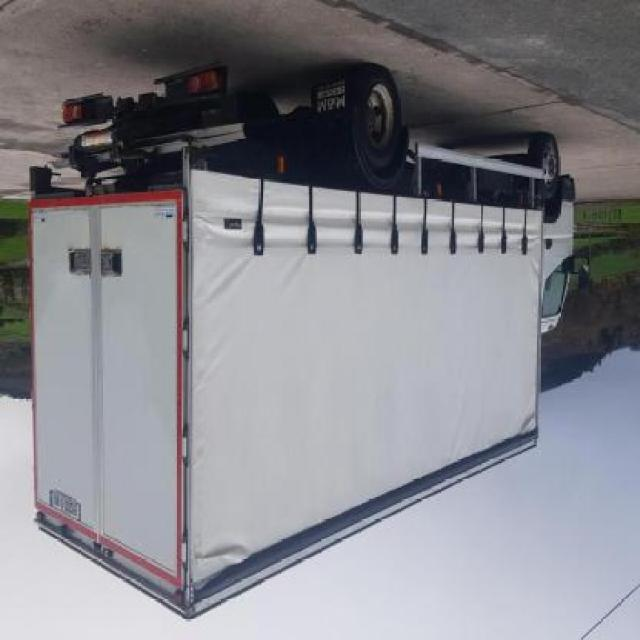truck: (33, 66, 590, 620)
